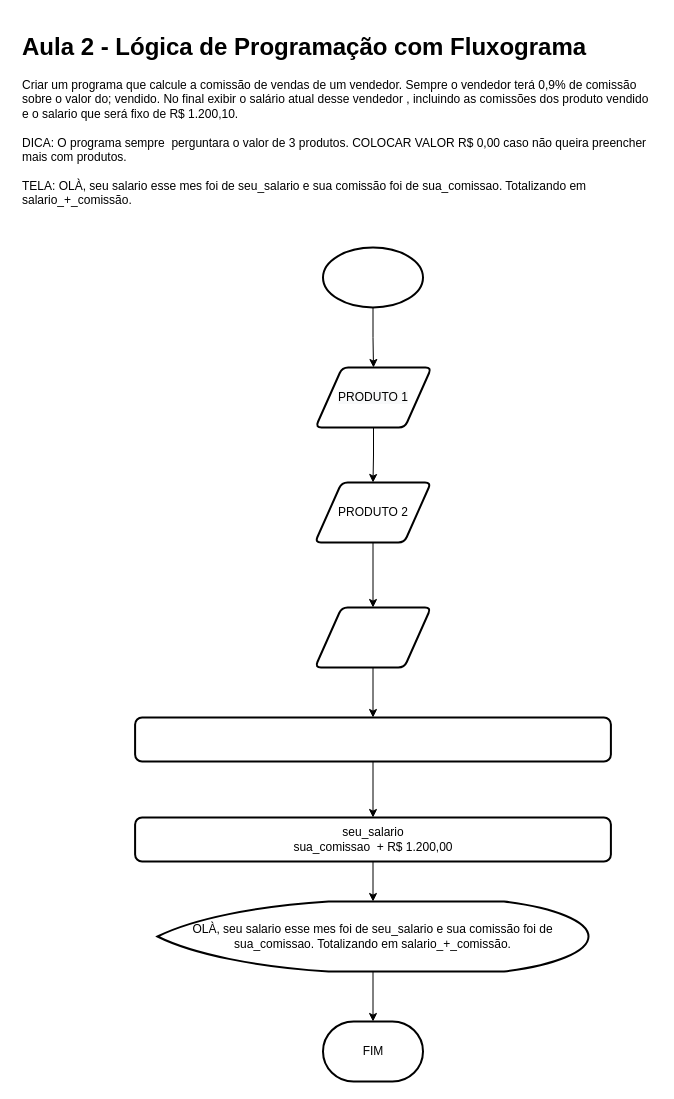
Some shapes in this 674 by 1099 pixel diagram are drawn without their labels. Here are the shapes that lost their labels. From the top down, the box of each, then its label:
(322, 246, 424, 308): INICIO
(314, 606, 432, 668): PRODUTO 3
(134, 716, 611, 762): sua_comissao (PRODUTO 1 * 0,9) + (PRODUTO 2 *0,9) + (PRODUTO 3 * 0,9)
